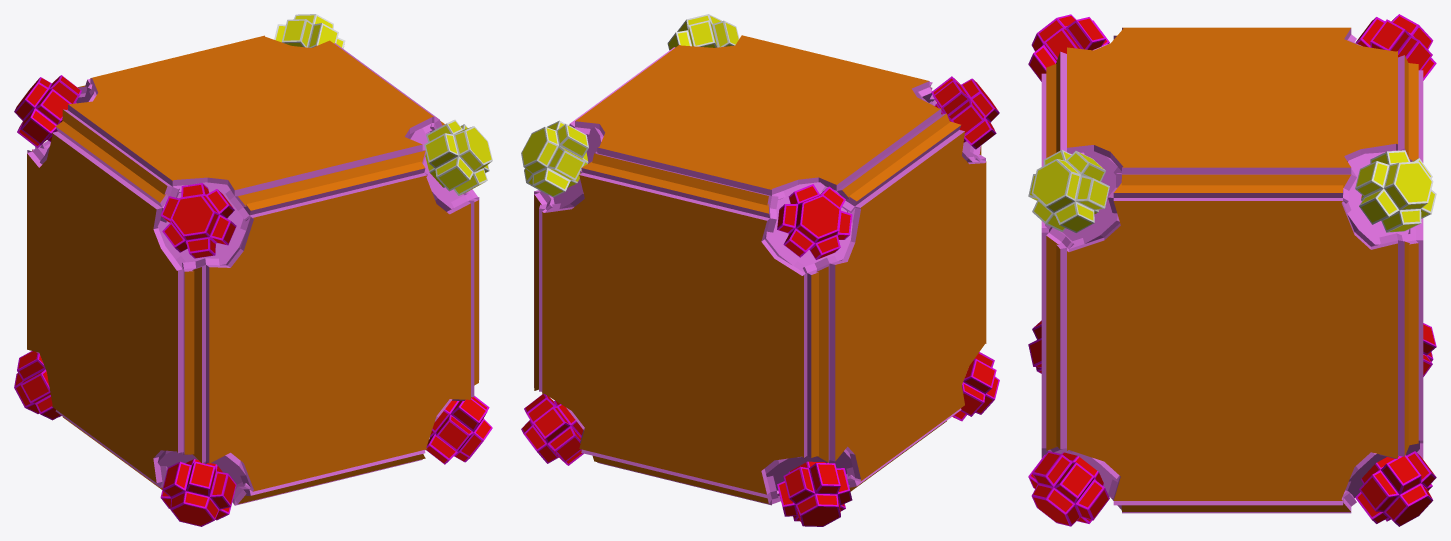
File: Simple_Cube_HiRes_v01.FBX
3 views of the same model, side by side, from view 1: azimuth 30°, elevation 25°; view 2: azimuth 150°, elevation 25°; view 3: azimuth 270°, elevation 25° (orthographic). The views are drawn at different scales.
Visible parts, largest first — view 1: GEARS; view 2: GEARS; view 3: GEARS.
Part boxes in pixels (left/top/right/bottom): GEARS: left=14, top=14, right=492, bottom=526; GEARS: left=521, top=14, right=999, bottom=526; GEARS: left=1028, top=14, right=1436, bottom=526.
Size of the model in its own units: 11.25 by 11.25 by 11.25.
